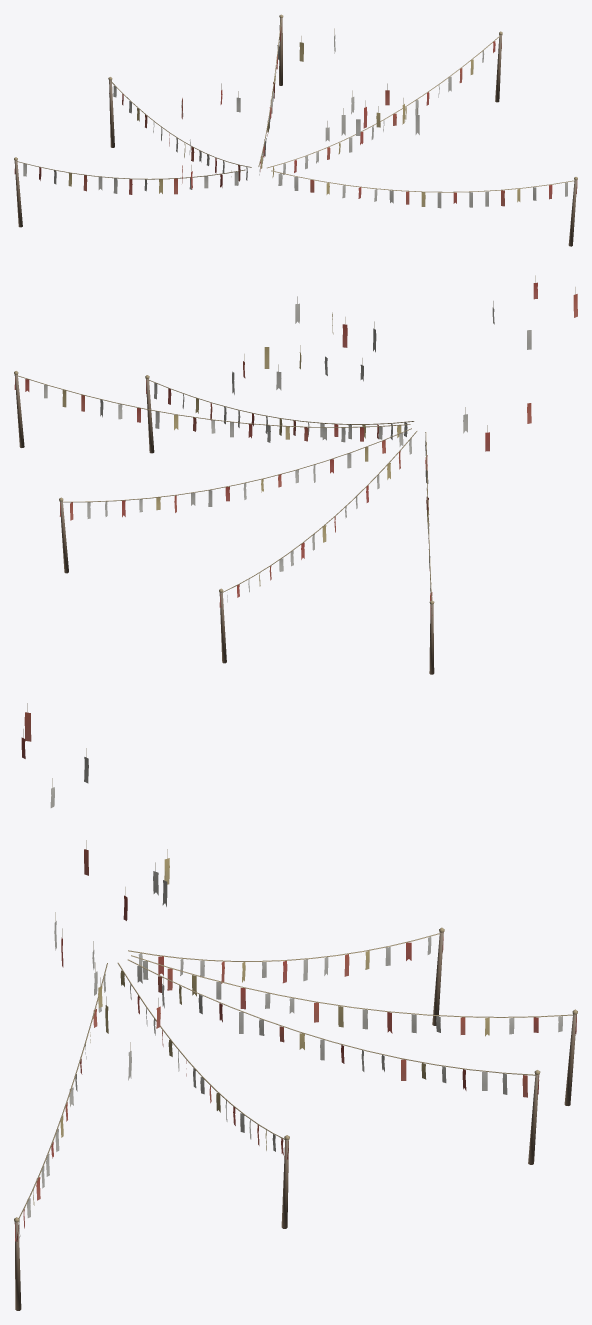
Rendered from east_charms.glb.
3 renders of one model, top to bottom at view 1: azimuth 30°, elevation 25°; view 2: azimuth 150°, elevation 25°; view 3: azimuth 270°, elevation 25°, orthographic. The views are drawn at different scales.
Visible parts, largest first — view 1: east_charms; view 2: east_charms; view 3: east_charms.
Part boxes in pixels (<box>): east_charms: <box>14,14,577,246</box>; east_charms: <box>14,275,577,674</box>; east_charms: <box>14,703,577,1310</box>.
Bounding box in the file's own units: 19.86 × 10.77 × 16.
